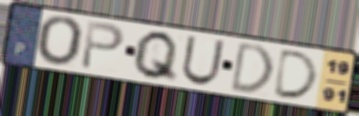D: (271, 48, 321, 102), (228, 40, 276, 95)
O: (35, 14, 86, 69)
P: (78, 19, 127, 72)
Q: (130, 29, 181, 84)
U: (179, 33, 227, 86)
